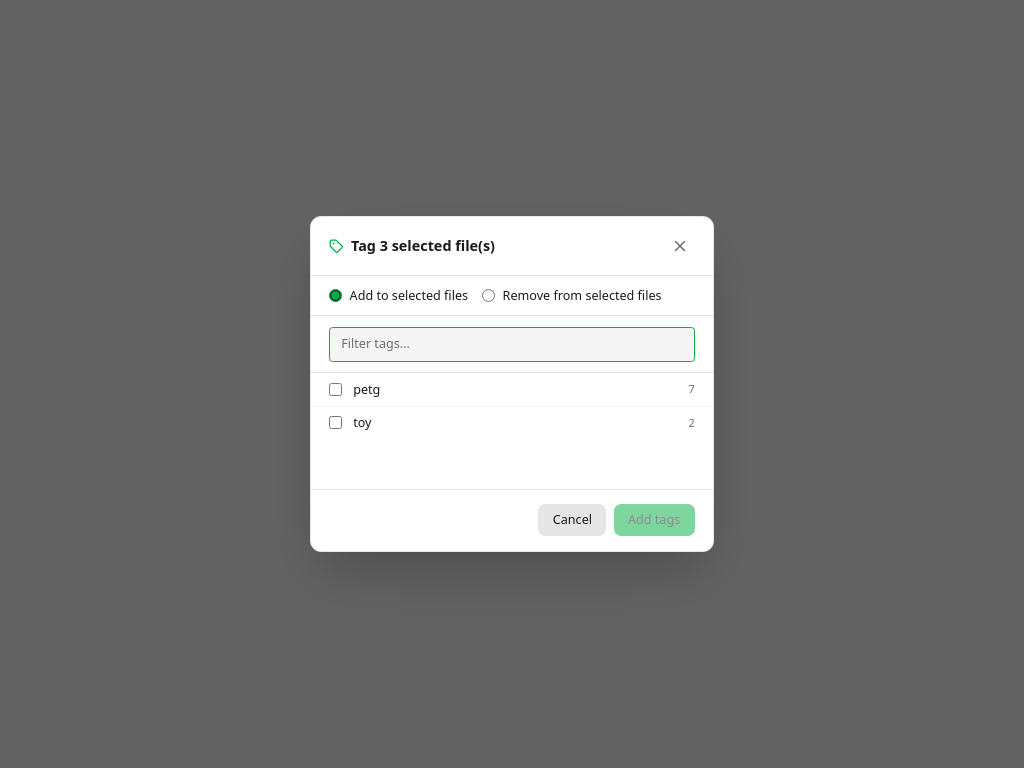
Scenario: BulkTagsPickerModal › Enter on a novel name creates the tag and auto-selects it
Expected: the text "toy" is shown, [353,414,372,431]
Type "benchy" into the field with placeholder "Filter tags..." at (512,344), box [329,327,695,362]
Then press Enter
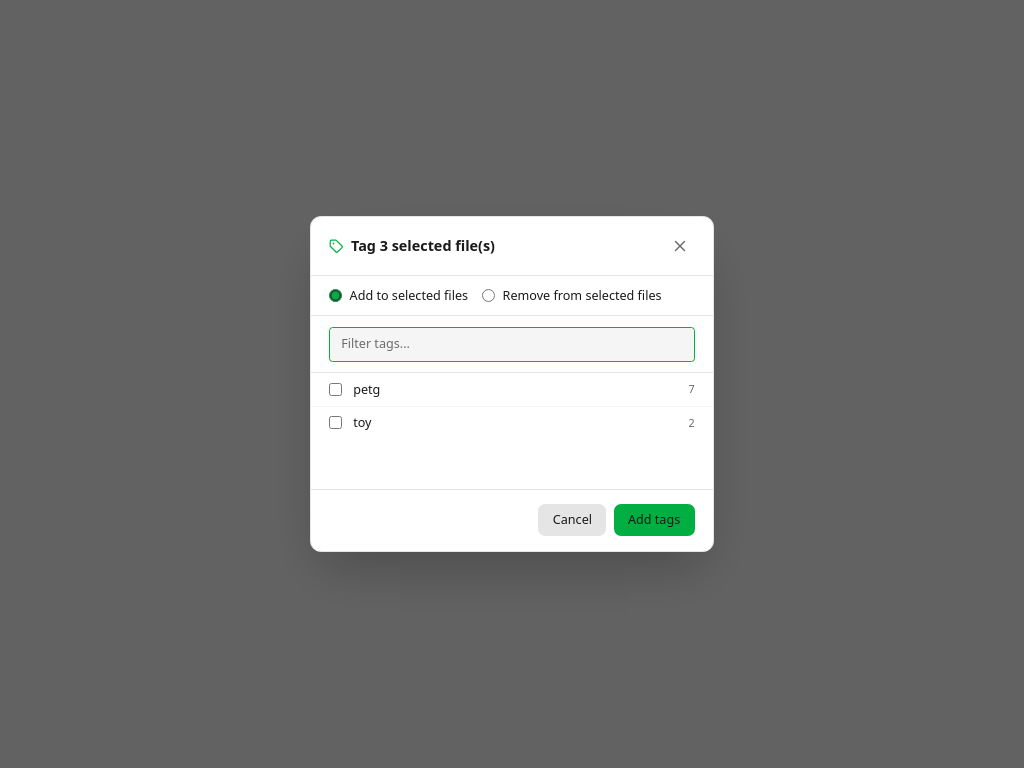
Expected: the button "Add tags" is enabled, [614,504,695,536]
